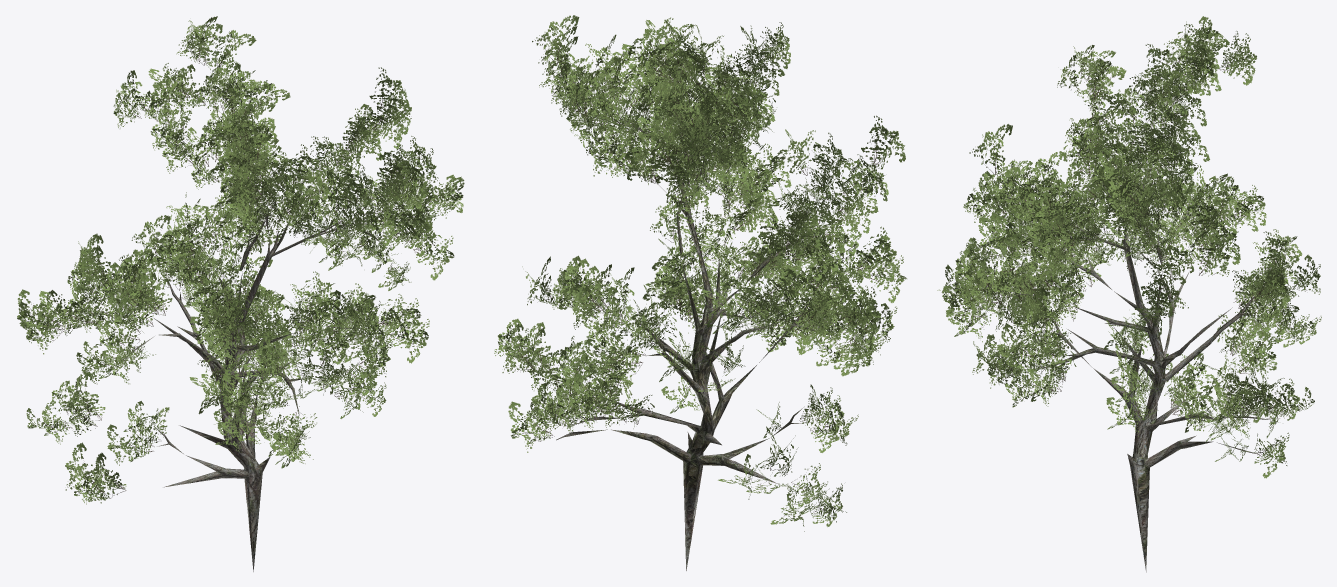
File: tree_leafy.glb
3 views of the same model, side by side, from view 1: azimuth 30°, elevation 25°; view 2: azimuth 150°, elevation 25°; view 3: azimuth 270°, elevation 25° (orthographic). The views are drawn at different scales.
Visible parts, largest first — view 1: Plane.197; view 2: Plane.197; view 3: Plane.197.
Boxes of the visible parts, x1,y1,x2,y2 form: Plane.197: (17,16,464,571); Plane.197: (494,15,906,570); Plane.197: (937,16,1321,572).
Size of the model in its own units: 5.9 by 8 by 5.18.
Materials: 2 (2 with a texture image).
